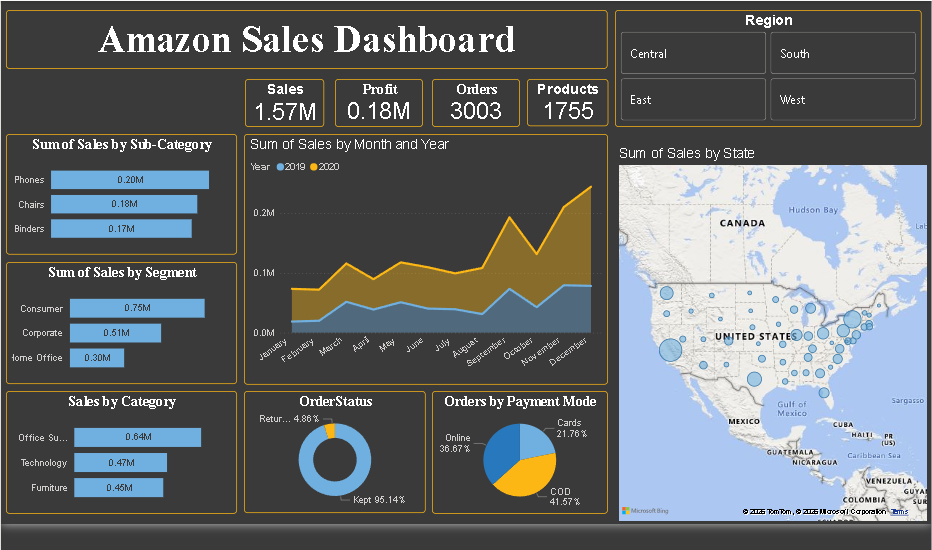

This screenshot's page, from the dashboard's own definition file:
{"tool":"powerbi","page":{"name":"Page 1","canvas":[1280,720],"ordinal":0},"visuals":[{"type":"clusteredBarChart","title":"Sales by Category","fields":{"Category":["Amazon Store Sales Data xlsx -.Category"],"Y":["Sum(Amazon Store Sales Data xlsx -.Sales)"]},"box":[7.4,536.2,317.8,169.3],"z":0},{"type":"clusteredBarChart","fields":{"Category":["Amazon Store Sales Data xlsx -.Sub-Category"],"Y":["Sum(Amazon Store Sales Data xlsx -.Sales)"]},"box":[7.4,182.8,317.8,165.6],"z":1000},{"type":"clusteredBarChart","fields":{"Category":["Amazon Store Sales Data xlsx -.Segment"],"Y":["Sum(Amazon Store Sales Data xlsx -.Sales)"]},"box":[7.4,359.5,317.8,168.1],"z":2000},{"type":"card","title":"Sales","fields":{"Values":["Sum(Amazon Store Sales Data xlsx -.Sales)"]},"box":[336.2,108,109.2,66.3],"z":3000},{"type":"card","title":"Profit","fields":{"Values":["Sum(Amazon Store Sales Data xlsx -.Profit)"]},"box":[460.1,108,121.5,66.3],"z":4000},{"type":"card","title":"Orders","fields":{"Values":["Count(Amazon Store Sales Data xlsx -.Order ID)"]},"box":[593.9,106.7,121.5,66.3],"z":5000},{"type":"card","title":"Products","fields":{"Values":["Count(Amazon Store Sales Data xlsx -.Product ID)"]},"box":[723.9,106.7,111.7,65],"z":6000},{"type":"pieChart","title":"Orders by Payment Mode","fields":{"Category":["Amazon Store Sales Data xlsx -.Payment Mode"],"Y":["CountNonNull(Amazon Store Sales Data xlsx -.Order ID)"]},"box":[593.9,536.2,241.7,169.3],"z":7000},{"type":"donutChart","title":"OrderStatus","fields":{"Category":["Amazon Store Sales Data xlsx -.OrderStatus"],"Y":["CountNonNull(Amazon Store Sales Data xlsx -.OrderStatus)"],"Series":["Amazon Store Sales Data xlsx -.OrderStatus"]},"box":[335,536.2,250.3,168.1],"z":8000},{"type":"stackedAreaChart","fields":{"Category":["Amazon Store Sales Data xlsx -.Order Date.Variation.Date Hierarchy.Month"],"Y":["Sum(Amazon Store Sales Data xlsx -.Sales)"],"Series":["Amazon Store Sales Data xlsx -.Order Date.Variation.Date Hierarchy.Year"]},"box":[335,182.8,500.6,344.8],"z":9000},{"type":"advancedSlicerVisual","fields":{"Values":["Amazon Store Sales Data xlsx -.Region"]},"box":[845.4,12.3,422.1,160.7],"z":11000},{"type":"textbox","box":[7.4,12.3,828.2,81],"z":12000},{"type":"map","fields":{"Size":["Sum(Amazon Store Sales Data xlsx -.Sales)"],"Category":["Amazon Store Sales Data xlsx -.State"]},"box":[845.4,197.5,434.4,522.7],"z":12001}]}

Visuals, with their boxes on the page's 1280x720 design canvas (x1, y1, x2, y2). These are canvas units, not pixel positions in the 932x550 screenshot, which may show the page scaled, cropped or inside an application window:
"Sales by Category" clusteredBarChart: [7,536,325,706]
clusteredBarChart - Amazon Store Sales Data xlsx -.Sub-Category x Sum(Amazon Store Sales Data xlsx -.Sales): [7,183,325,348]
clusteredBarChart - Amazon Store Sales Data xlsx -.Segment x Sum(Amazon Store Sales Data xlsx -.Sales): [7,360,325,528]
"Sales" card: [336,108,445,174]
"Profit" card: [460,108,582,174]
"Orders" card: [594,107,715,173]
"Products" card: [724,107,836,172]
"Orders by Payment Mode" pieChart: [594,536,836,706]
"OrderStatus" donutChart: [335,536,585,704]
stackedAreaChart - Amazon Store Sales Data xlsx -.Order Date.Variation.Date Hierarchy.Month x Sum(Amazon Store Sales Data xlsx -.Sales): [335,183,836,528]
advancedSlicerVisual - Amazon Store Sales Data xlsx -.Region: [845,12,1268,173]
textbox: [7,12,836,93]
map - Sum(Amazon Store Sales Data xlsx -.Sales) x Amazon Store Sales Data xlsx -.State: [845,198,1280,720]
